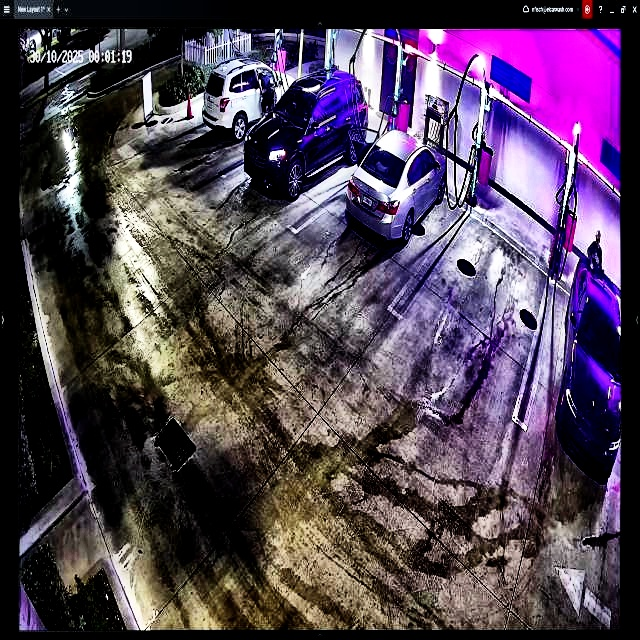Car: (244, 66, 366, 199), (347, 131, 446, 245)
